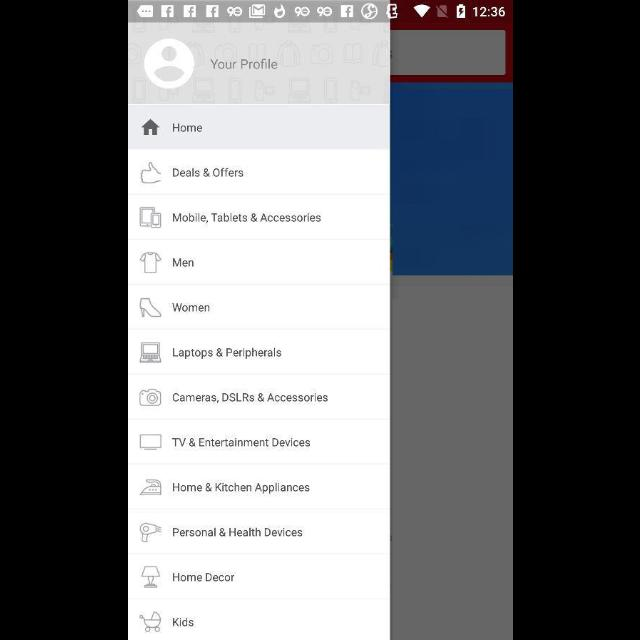icon: (143, 39, 194, 89), (139, 611, 161, 633), (139, 389, 161, 406), (140, 120, 160, 136)
image: (138, 207, 162, 229), (140, 342, 162, 364), (139, 252, 161, 274), (140, 162, 162, 184), (138, 298, 162, 318), (140, 566, 160, 588), (140, 523, 162, 543), (138, 434, 162, 451), (139, 480, 161, 496)
panel: (128, 24, 390, 640)
text: (172, 213, 322, 225), (172, 392, 328, 403), (172, 482, 310, 494), (172, 347, 282, 359), (171, 438, 309, 447), (172, 528, 302, 536), (210, 59, 278, 71), (172, 168, 244, 178), (172, 572, 234, 582), (172, 304, 210, 312), (172, 124, 202, 132), (172, 258, 194, 268), (172, 618, 194, 626)
uppertaskbar: (128, 1, 512, 23)
